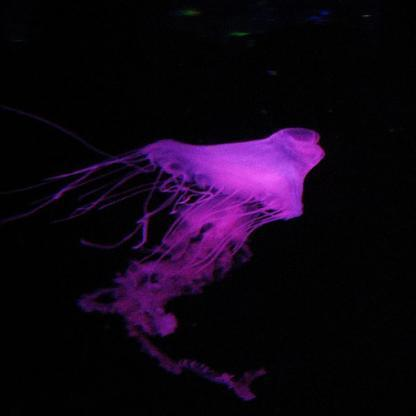Mosaic: (74, 126, 320, 378)
